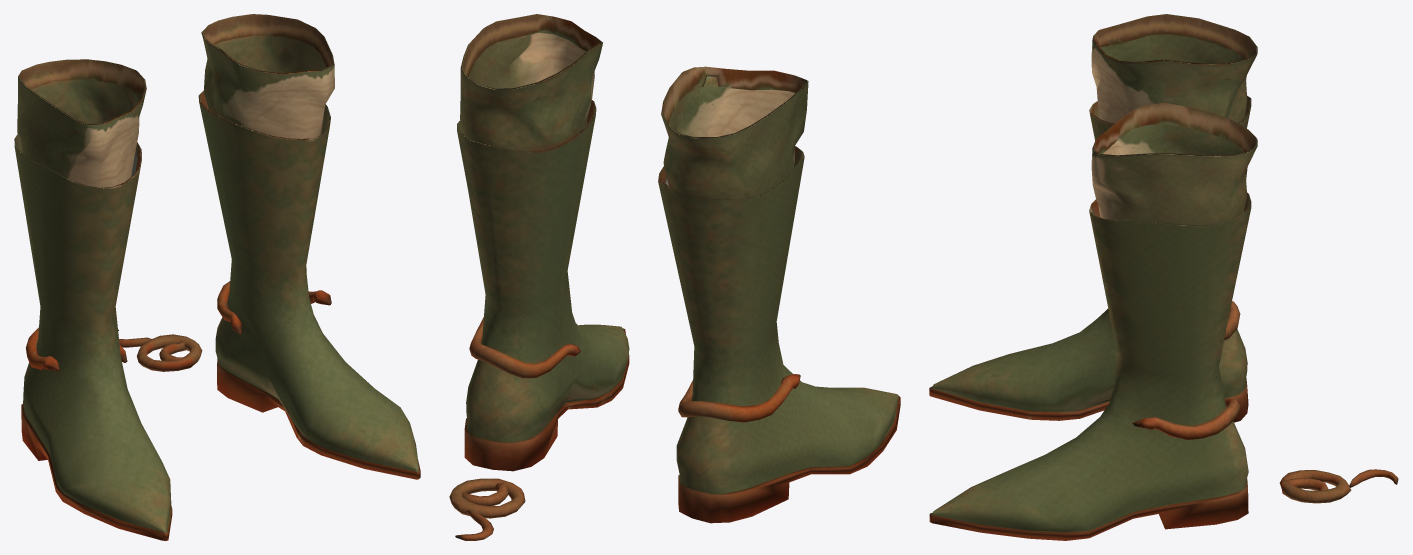
File: serpents-coil-boots_refine.glb
The picture shows the model from 3 angles, left to right: view 1: azimuth 30°, elevation 25°; view 2: azimuth 150°, elevation 25°; view 3: azimuth 270°, elevation 25°; orthographic projection. The views are drawn at different scales.
Bounding box in the file's own units: 0.8003 × 0.8481 × 0.9497.
Materials: 1 (1 with a texture image).
